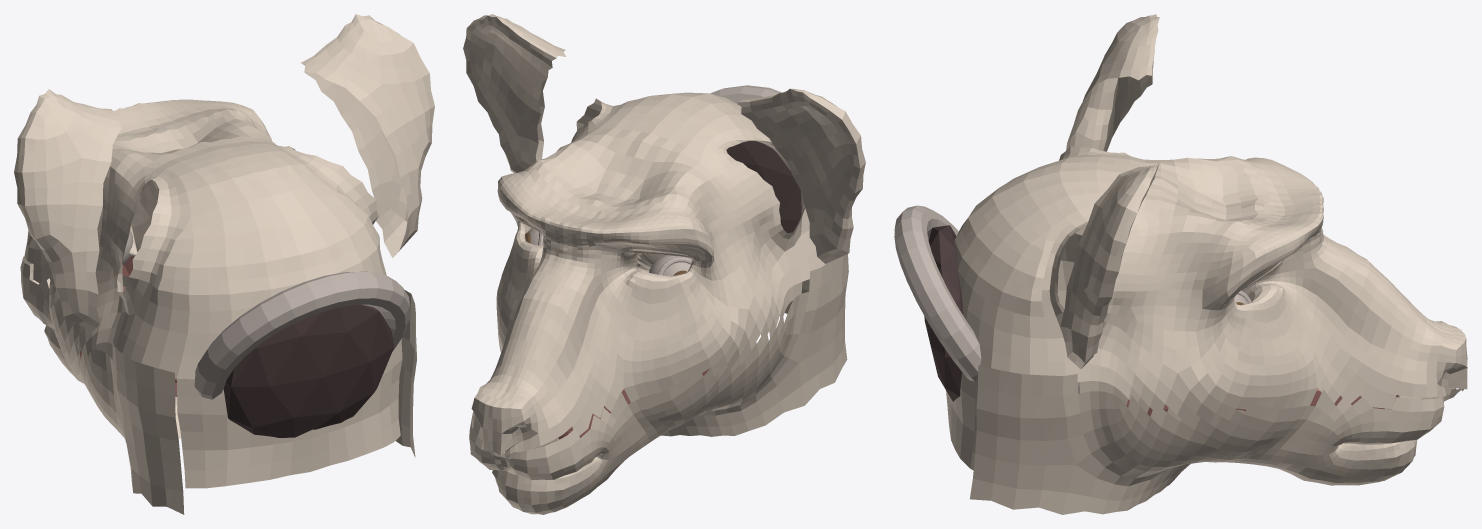
Rendered from brand_head.glb.
The picture shows the model from 3 angles, left to right: view 1: azimuth 30°, elevation 25°; view 2: azimuth 150°, elevation 25°; view 3: azimuth 270°, elevation 25°; orthographic projection. The views are drawn at different scales.
Visible parts, largest first — view 1: TissueHead, Ear_L, Ear_R, NeckSocketDisc, Jaw, NeckSocket; view 2: TissueHead, Jaw, Ear_R, Ear_L, NeckSocketDisc, NeckSocket, Eyelid_R; view 3: TissueHead, Jaw, Ear_L, Ear_R, NeckSocket, NeckSocketDisc.
Part boxes in pixels (x1=…): TissueHead: x1=24, y1=99, x2=402, y2=488; Ear_L: x1=301, y1=14, x2=434, y2=258; Ear_R: x1=14, y1=89, x2=121, y2=331; NeckSocketDisc: x1=223, y1=304, x2=394, y2=437; Jaw: x1=20, y1=256, x2=416, y2=514; NeckSocket: x1=194, y1=271, x2=410, y2=399; TissueHead: x1=471, y1=92, x2=825, y2=456; Jaw: x1=469, y1=254, x2=848, y2=514; Ear_R: x1=737, y1=88, x2=865, y2=263; Ear_L: x1=463, y1=14, x2=565, y2=173; NeckSocketDisc: x1=726, y1=140, x2=801, y2=232; NeckSocket: x1=710, y1=85, x2=781, y2=104; Eyelid_R: x1=649, y1=255, x2=690, y2=276; TissueHead: x1=946, y1=146, x2=1467, y2=470; Jaw: x1=970, y1=260, x2=1461, y2=514; Ear_L: x1=1060, y1=163, x2=1159, y2=368; Ear_R: x1=1066, y1=14, x2=1159, y2=151; NeckSocket: x1=894, y1=205, x2=981, y2=381; NeckSocketDisc: x1=924, y1=225, x2=962, y2=401.
Size of the model in its own units: 0.9417 by 0.8771 by 1.16.
